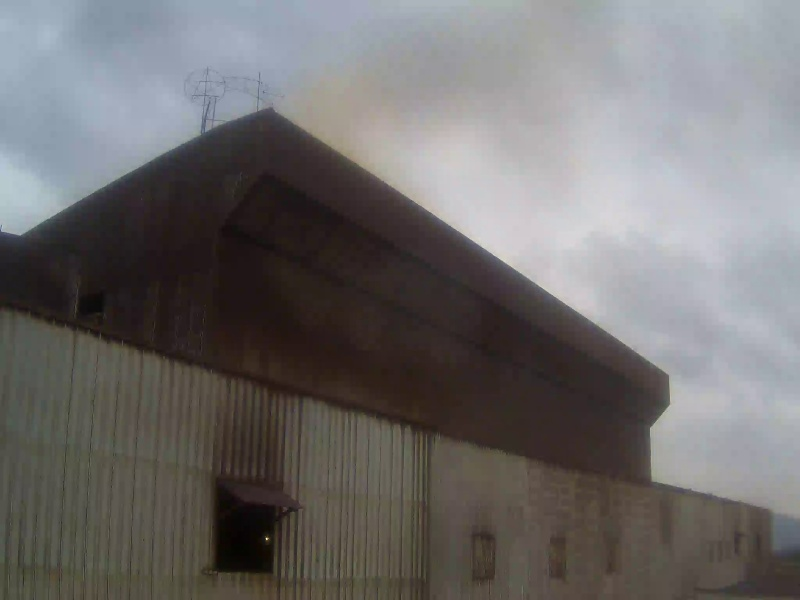bom: (12, 14, 214, 183), (647, 307, 763, 443)
ruim: (283, 53, 447, 190)
